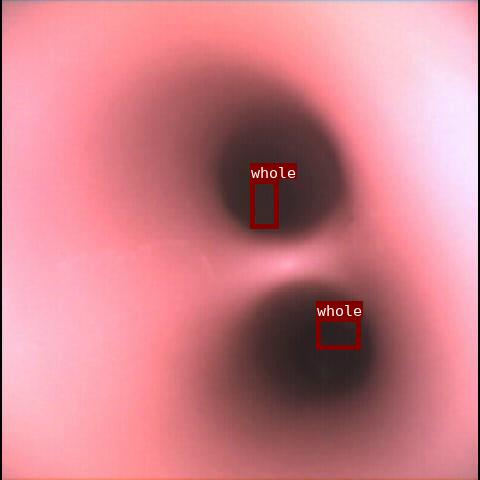whole: (316, 317, 360, 349), (250, 179, 278, 228)
